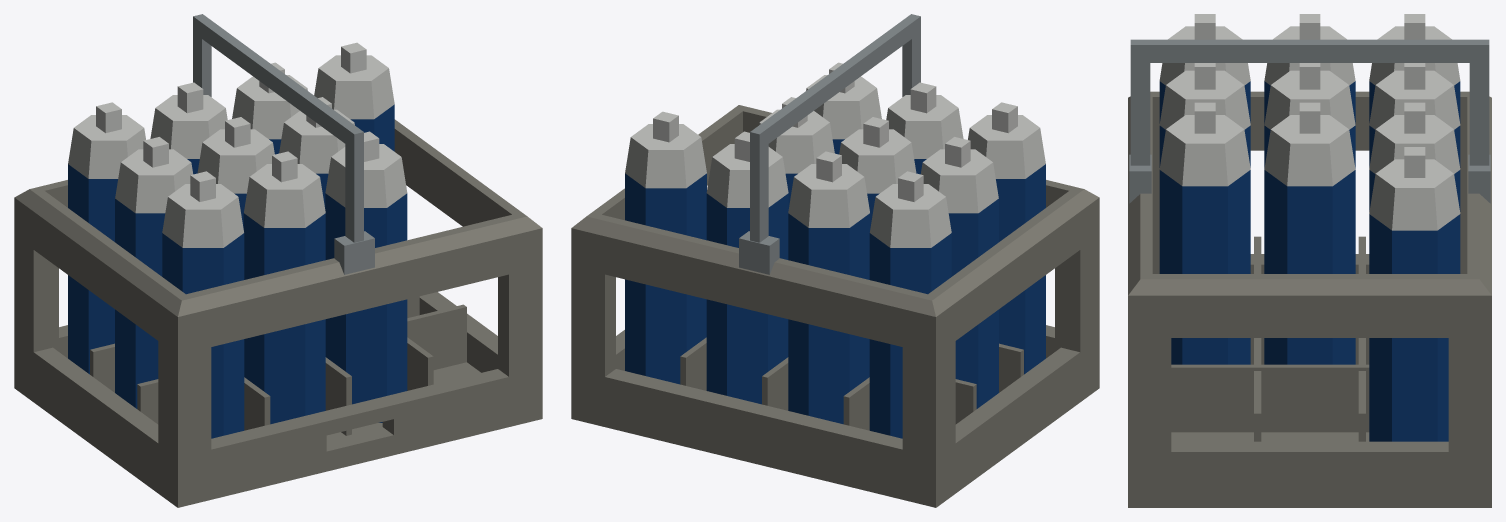
File: water-bottle-crate-78c8db.glb
3 views of the same model, side by side, from view 1: azimuth 30°, elevation 25°; view 2: azimuth 150°, elevation 25°; view 3: azimuth 270°, elevation 25° (orthographic). The views are drawn at different scales.
Visible parts, largest first — view 1: crate-body, bottle-mesh, handle-mesh; view 2: crate-body, handle-mesh, bottle-mesh; view 3: crate-body, bottle-mesh, handle-mesh.
Boxes of the visible parts, x1=… form: crate-body: x1=14, y1=42, x2=542, y2=507; bottle-mesh: x1=325, y1=131, x2=407, y2=422; handle-mesh: x1=193, y1=14, x2=363, y2=242; crate-body: x1=571, y1=82, x2=1099, y2=507; handle-mesh: x1=750, y1=14, x2=920, y2=242; bottle-mesh: x1=806, y1=62, x2=881, y2=154; crate-body: x1=1128, y1=14, x2=1491, y2=507; bottle-mesh: x1=1159, y1=102, x2=1250, y2=364; handle-mesh: x1=1130, y1=39, x2=1489, y2=165.
Size of the model in its own units: 0.38 by 0.328 by 0.295.
